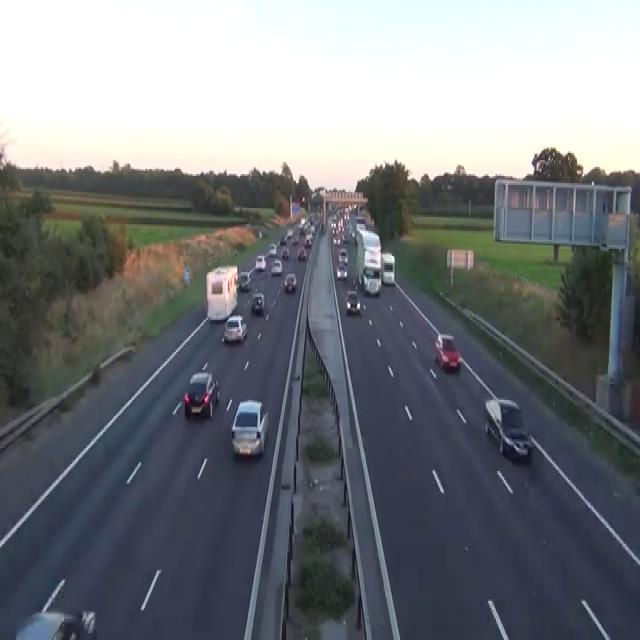Car: (14, 576, 96, 638), (484, 396, 532, 458), (14, 608, 96, 638), (230, 398, 269, 457), (183, 370, 220, 418), (92, 345, 136, 382), (434, 332, 460, 372), (223, 315, 247, 343), (359, 265, 381, 295), (363, 246, 380, 268), (345, 290, 360, 314), (251, 292, 264, 314), (284, 272, 296, 292), (238, 270, 250, 290), (270, 258, 282, 276), (255, 254, 266, 270), (336, 263, 347, 279), (338, 247, 348, 263), (183, 267, 190, 286), (297, 247, 306, 260), (268, 242, 276, 256), (281, 247, 289, 260), (304, 235, 312, 247), (279, 235, 287, 245), (286, 228, 293, 238), (342, 233, 349, 243), (292, 234, 299, 243), (333, 234, 340, 243), (300, 217, 306, 226), (275, 220, 280, 228), (258, 230, 262, 238)
Truck: (205, 263, 238, 322), (355, 228, 381, 295), (381, 252, 395, 284)
